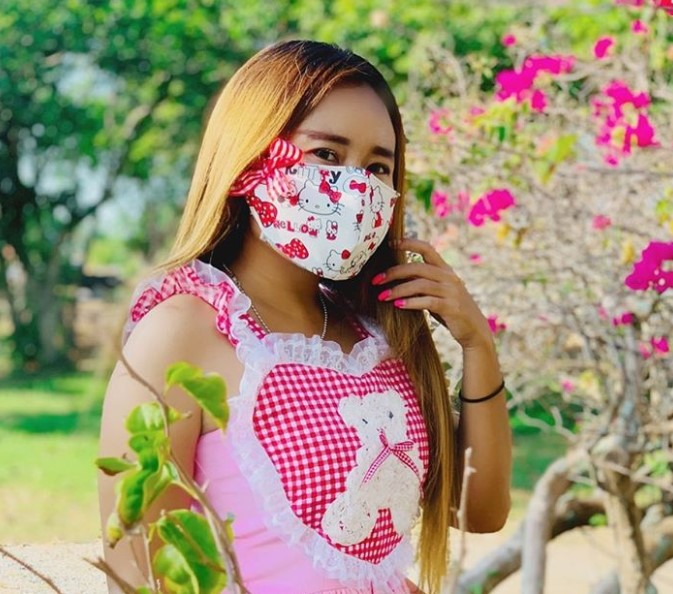face_with_mask: (231, 80, 406, 285)
